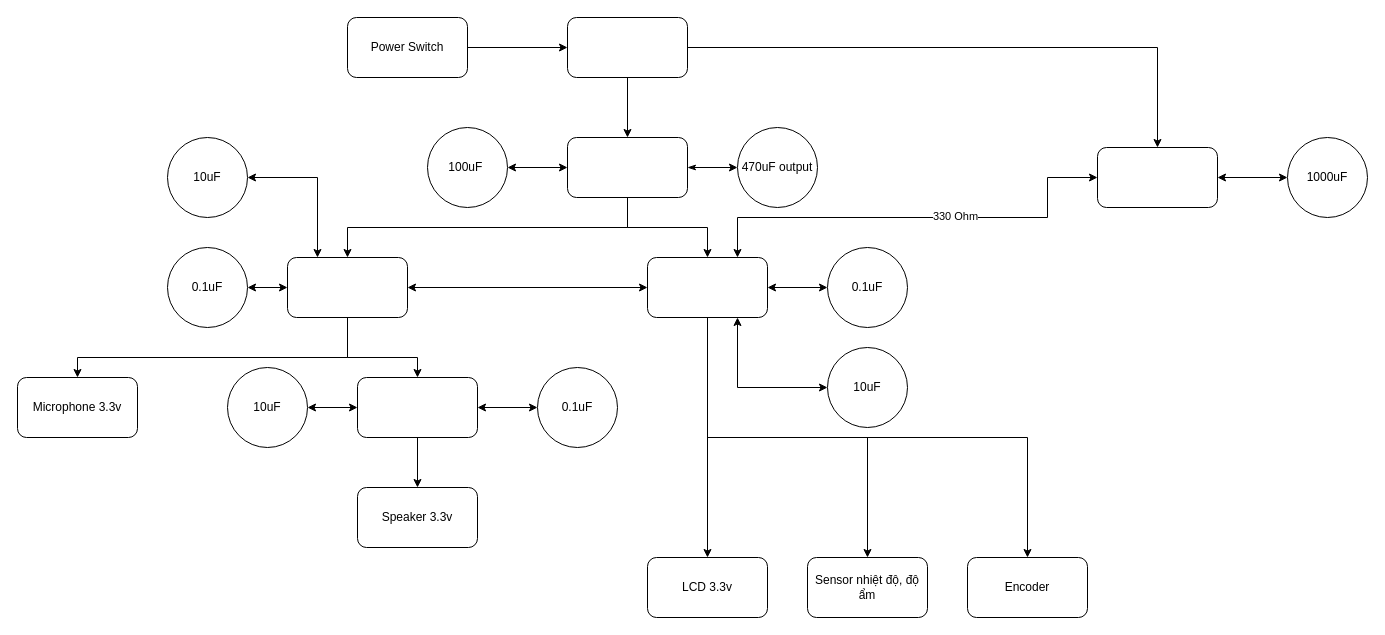
The diagram is 1385 pixels wide and 635 high, and some of its shapes have lost their labels. Here are the shapes that lost their labels. From the top down, the box of each, then its label:
(566, 16, 688, 78): Power Supply 5v
(566, 136, 688, 198): Power supply buck 3.3v
(1096, 146, 1218, 208): LEDs
(286, 256, 408, 318): ESP32
(646, 256, 768, 318): STM32
(356, 376, 478, 438): Max98357
